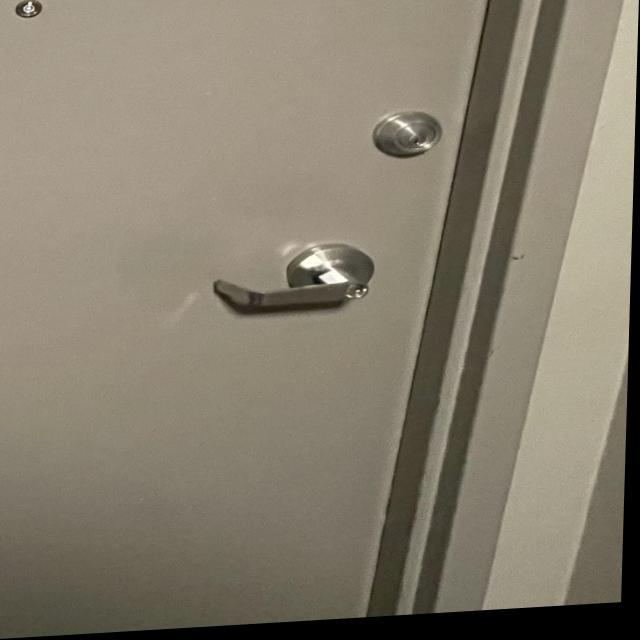door_handle: (197, 254, 403, 334)
